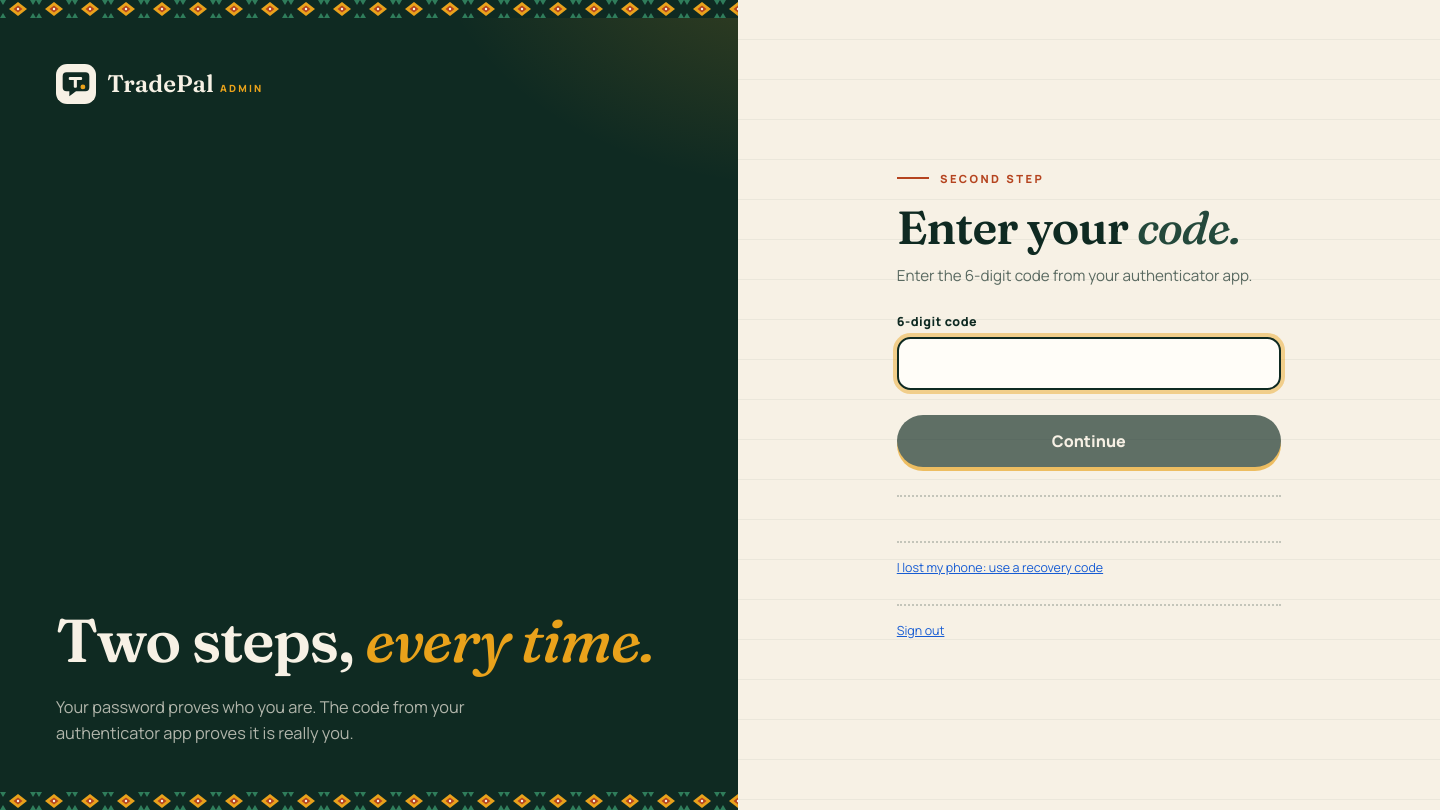
authenticator step › shows the server's message for a wrong code and stays on the page
Step 1. Type "000000" into the field labelled "6-digit code" → (1089, 364), box [897, 337, 1281, 390]
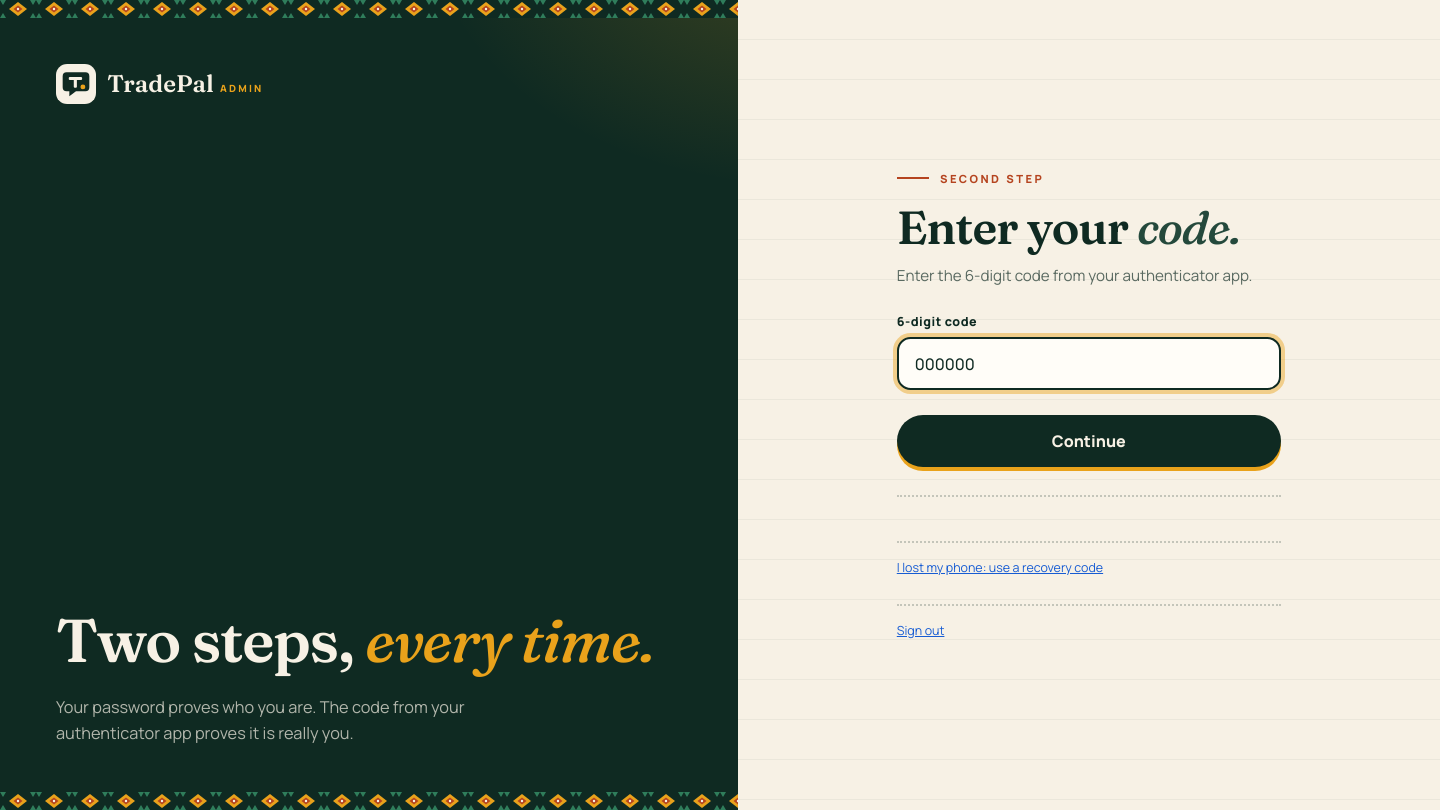
Step 2. Click the button "Continue" → click(1089, 441), box [897, 415, 1281, 467]
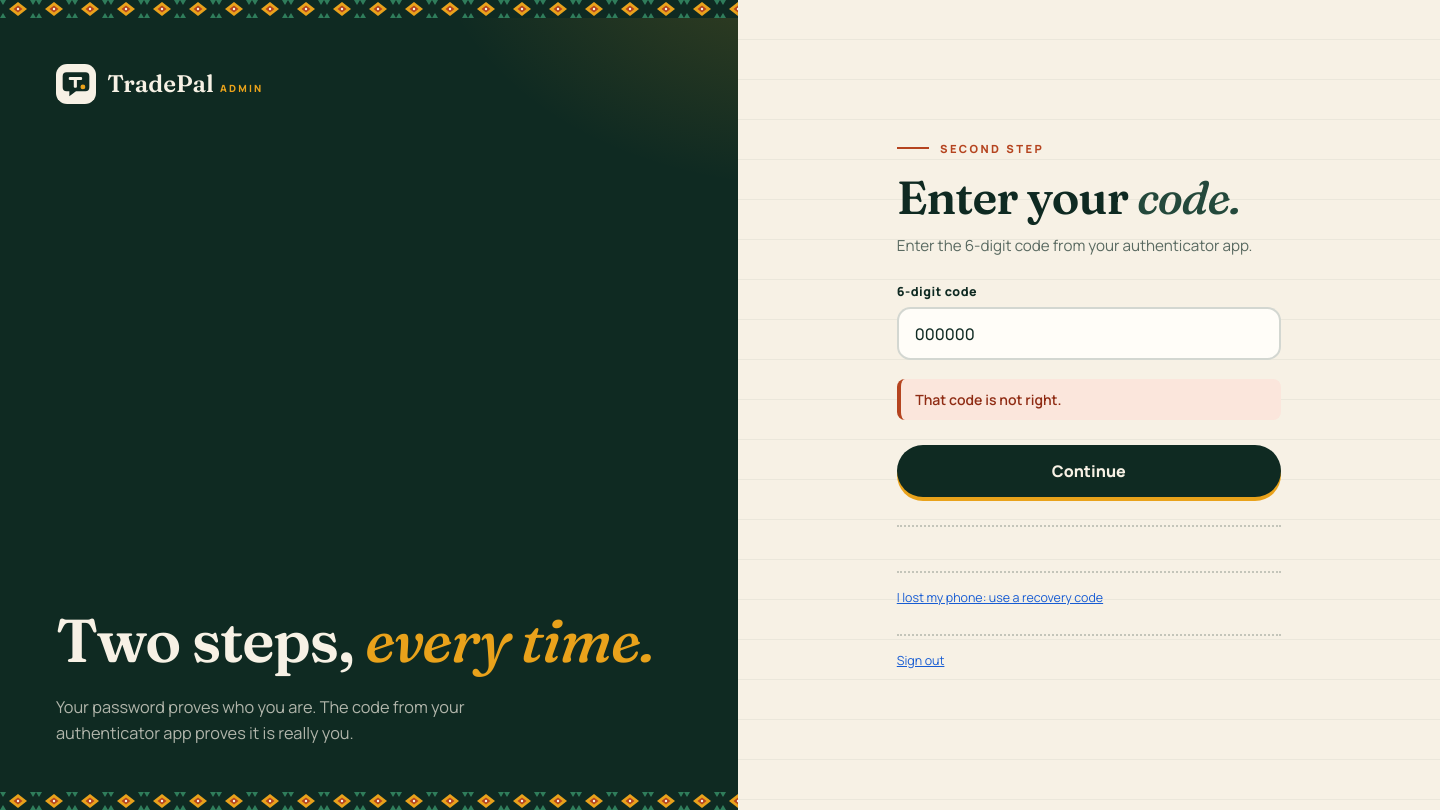
Expected: the message reads "That code is not right.", [915, 390, 1062, 409]
